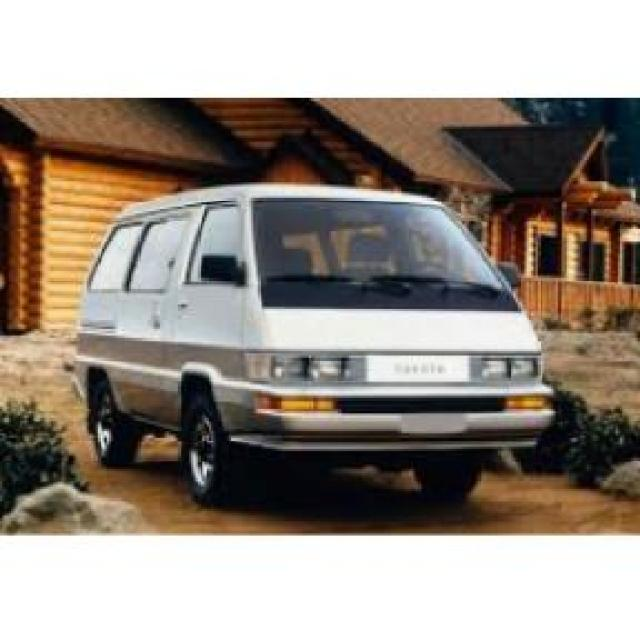Van: (76, 177, 556, 502)
